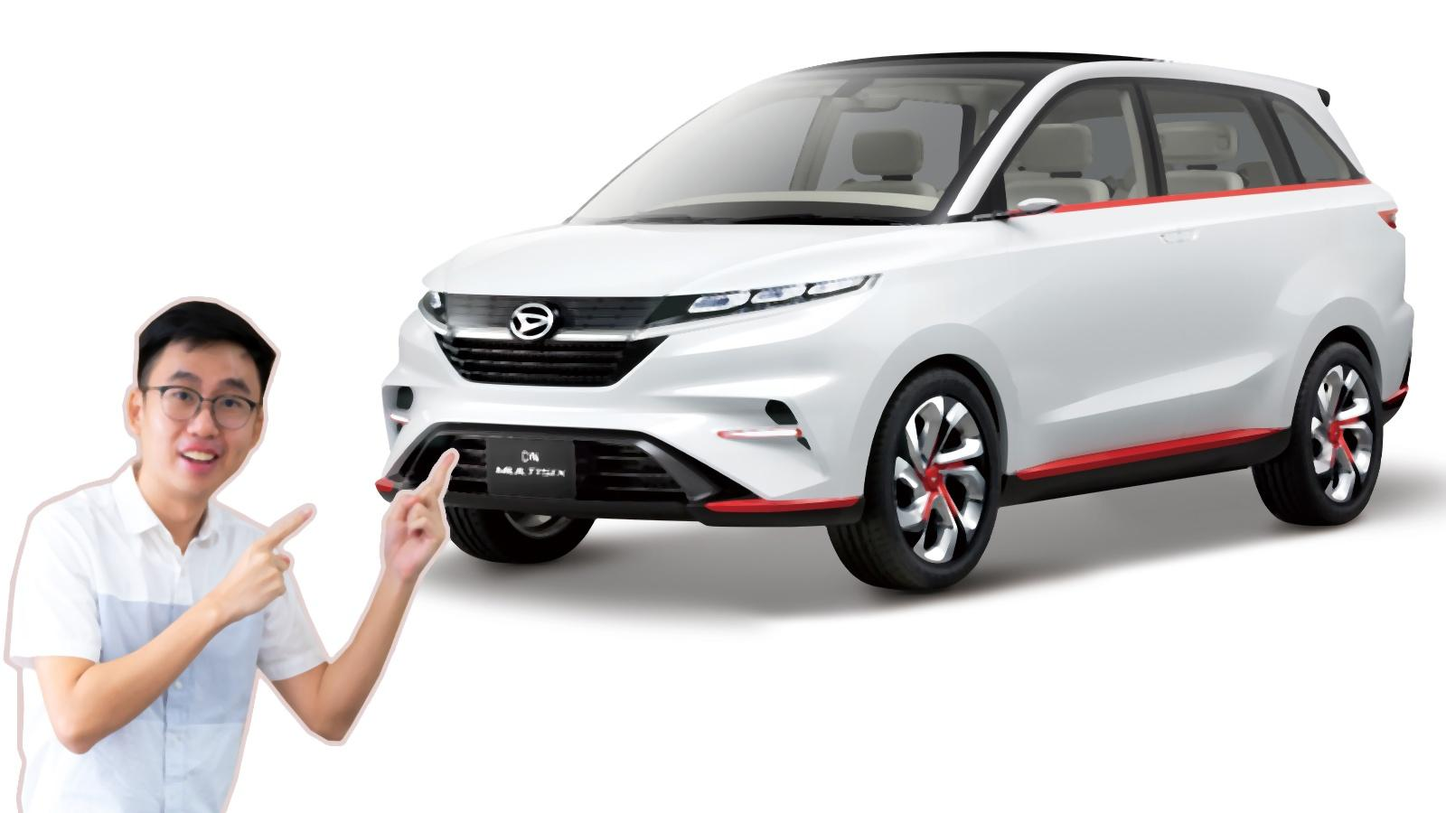Car hood: (416, 217, 931, 301)
Fender - -F-L-: (851, 201, 1021, 506)
Fender - -R-L-: (1308, 194, 1418, 338)
Front bumper: (348, 325, 888, 545)
Headlight - -L-: (660, 262, 896, 329)
Headlight - -R-: (393, 271, 479, 347)
Passenger-s door - -F-L-: (972, 54, 1194, 478)
Passenger-s door - -R-L-: (1153, 67, 1333, 455)
Rear bumper: (1361, 301, 1429, 441)
Rear light - -L-: (1360, 185, 1410, 244)
Side bumper - -L-: (993, 416, 1307, 517)
Side mirror - -L-: (960, 172, 1067, 233)
